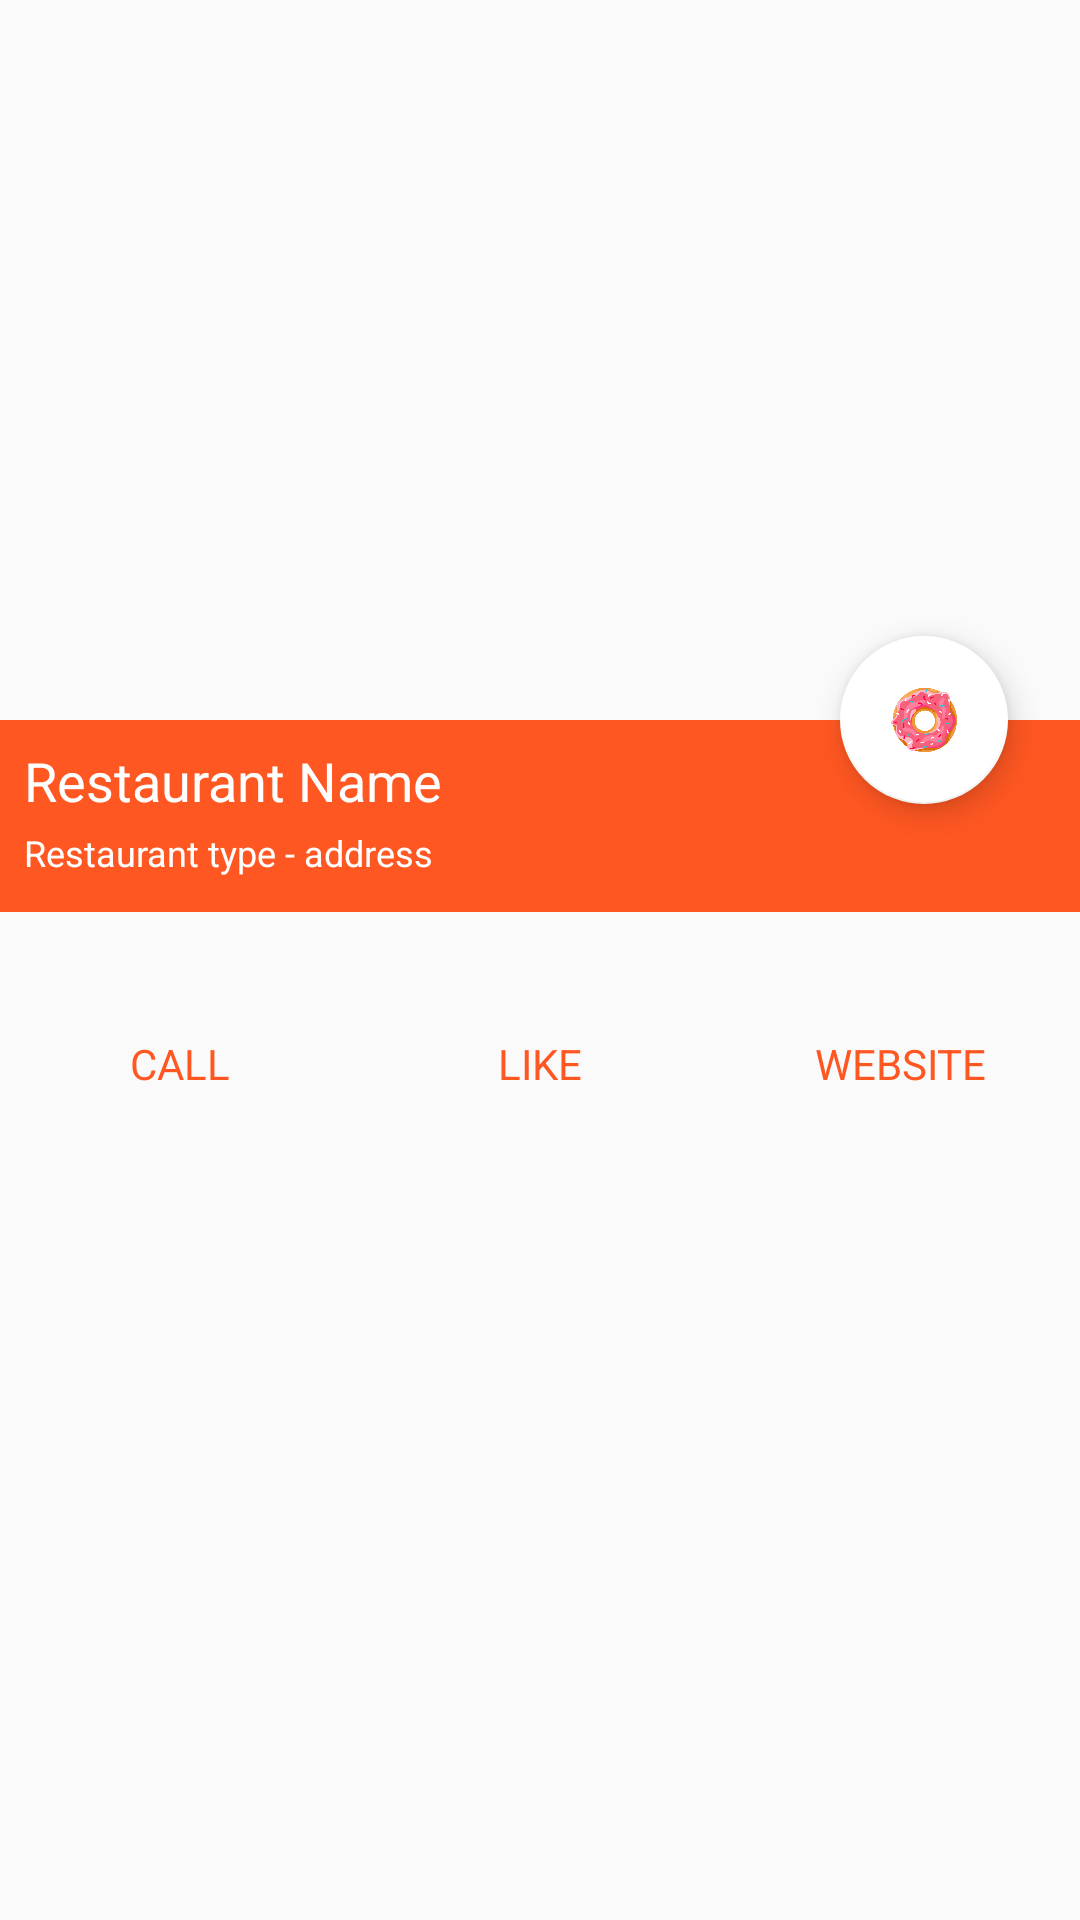

Icon click points for this 1080x1920 phone screenshot, format point (x, y):
donut: point (924, 720)
